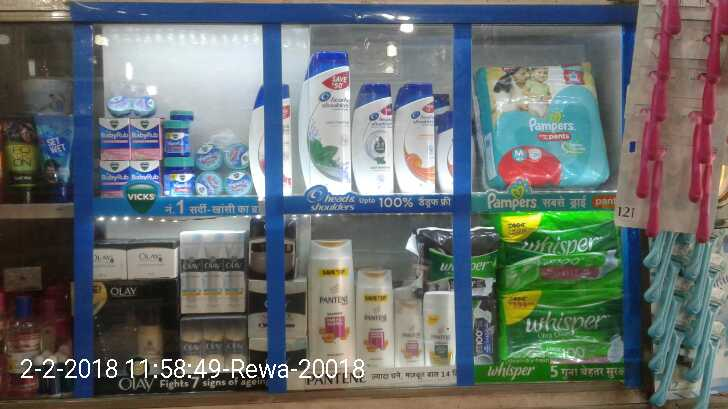vicks: (97, 94, 254, 200)
